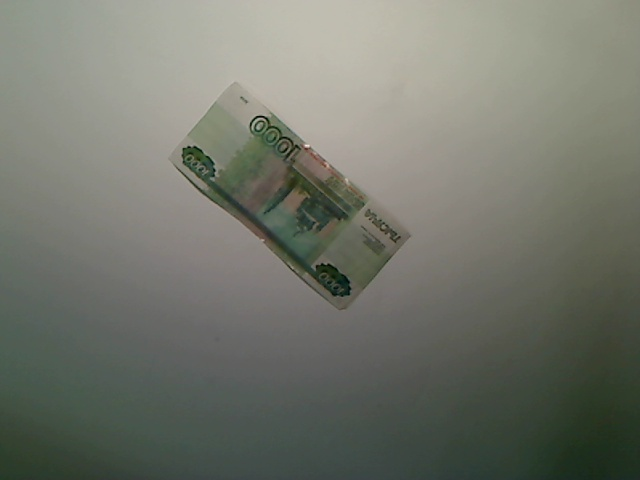banknotes: (164, 79, 414, 315)
